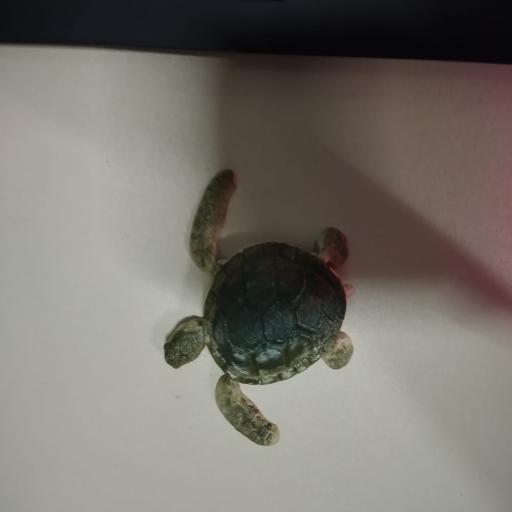Tugarin-modelo1: (164, 169, 354, 446)
